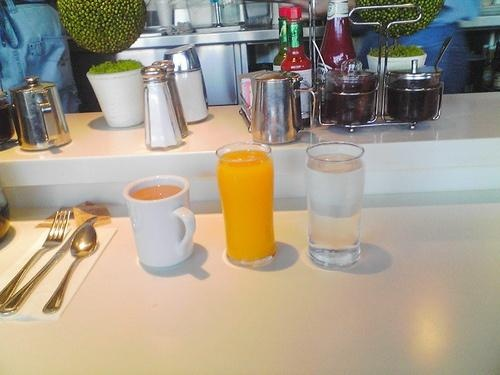bottle: (284, 8, 316, 124), (321, 1, 357, 89)
pottedplant: (60, 1, 162, 127), (351, 1, 450, 68)
